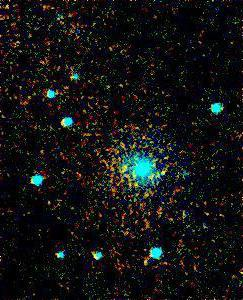star: (147, 157, 177, 187)
